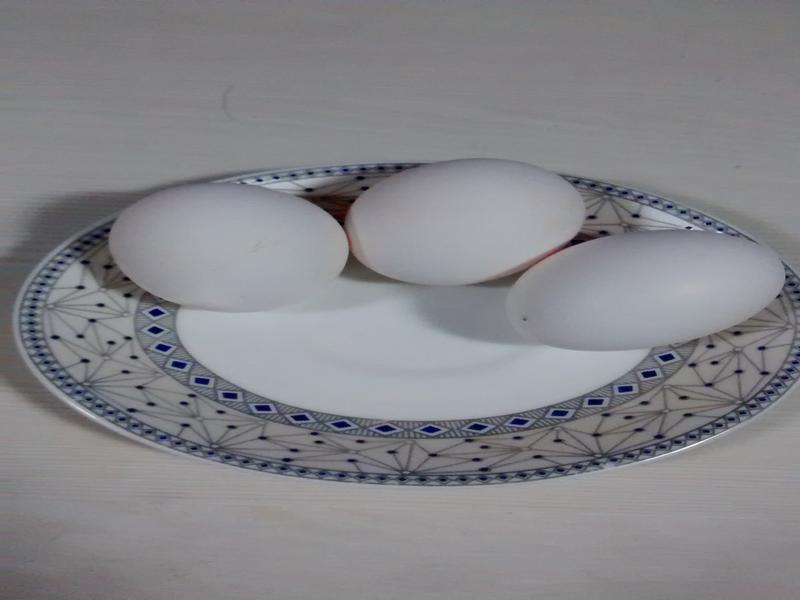egg: (111, 183, 350, 310)
